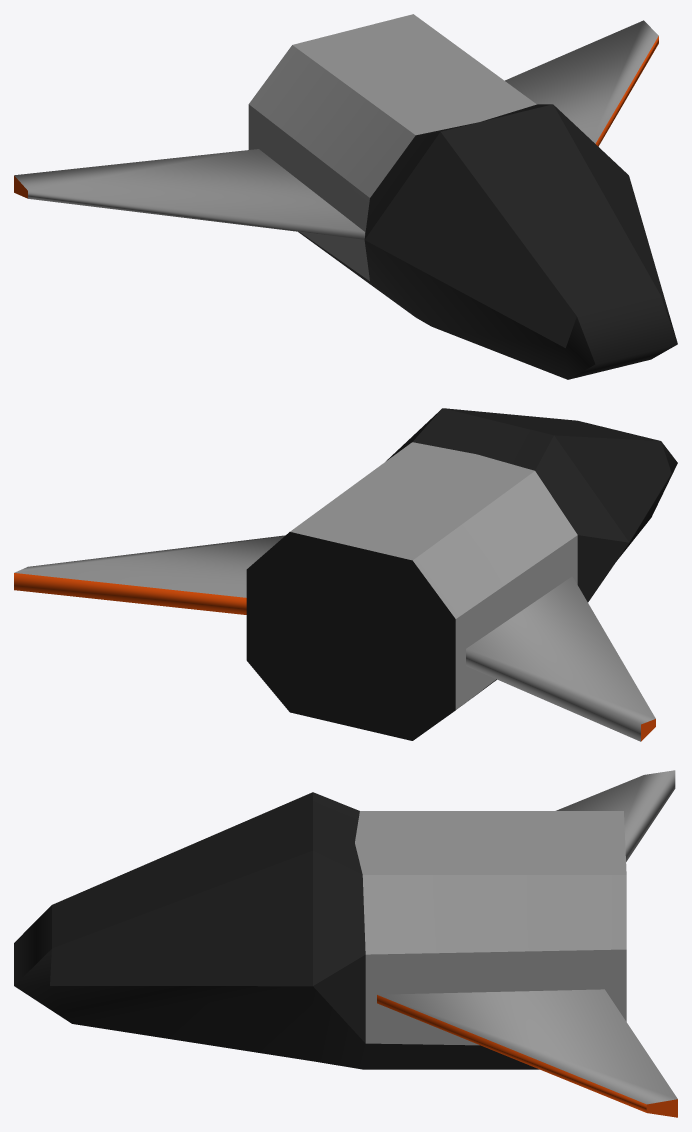
The model's file is spaceship.obj.
3 views of the same model, one above another, from view 1: azimuth 30°, elevation 25°; view 2: azimuth 150°, elevation 25°; view 3: azimuth 270°, elevation 25° (orthographic). The views are drawn at different scales.
Visible parts, largest first — view 1: Box002_Mesh; view 2: Box002_Mesh; view 3: Box002_Mesh.
Boxes of the visible parts, bbox=[...] form: Box002_Mesh: bbox=[14, 14, 677, 379]; Box002_Mesh: bbox=[14, 408, 677, 741]; Box002_Mesh: bbox=[14, 770, 677, 1117].
Bounding box in the file's own units: 0.2537 × 0.0772 × 0.216.
